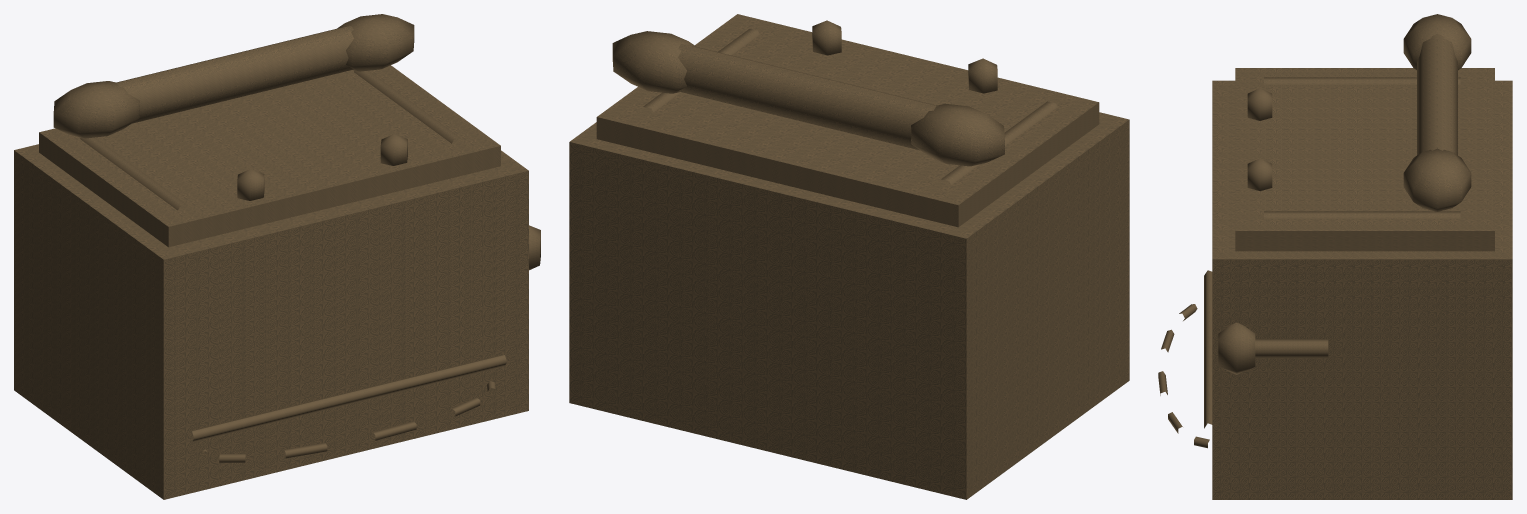
The model's file is field-telephone.glb.
3 renders of one model, left to right at view 1: azimuth 30°, elevation 25°; view 2: azimuth 150°, elevation 25°; view 3: azimuth 270°, elevation 25°, orthographic. The views are drawn at different scales.
Parts seen in each view (by area): view 1: LOD0; view 2: LOD0; view 3: LOD0.
Part boxes in pixels (bbox=[...]): LOD0: bbox=[14, 14, 540, 499]; LOD0: bbox=[569, 14, 1129, 499]; LOD0: bbox=[1158, 14, 1512, 499].
Size of the model in its own units: 0.28 by 0.22 by 0.22.
1 material, 1 textured.
